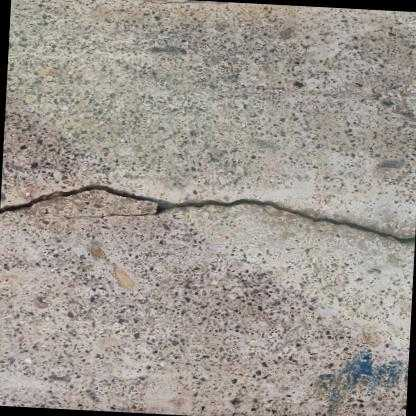crack: (0, 184, 415, 244)
